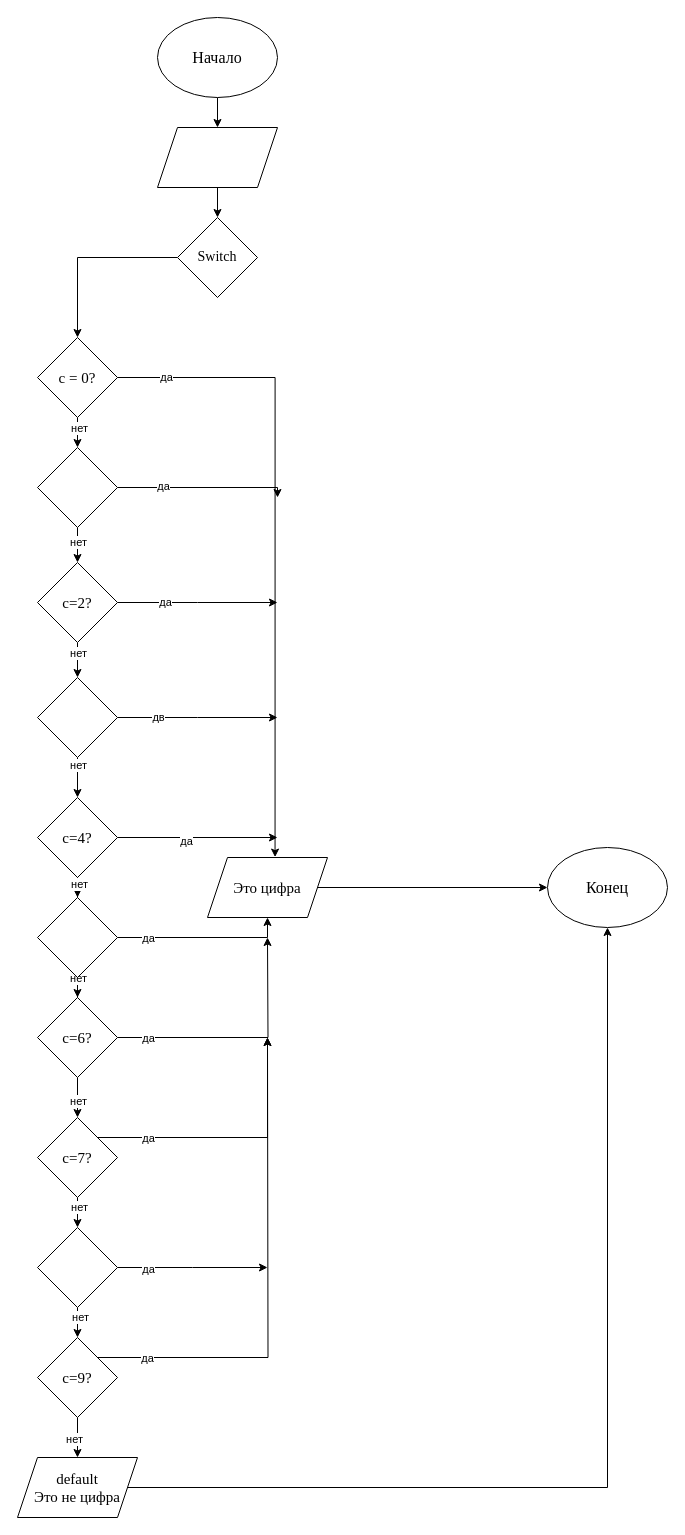
Image size: 685x1535. Some labels were removed from this diagram. The shapes that lost their labels are listed below. From the top down, each one's centre as x and y in pixels, then its label:
point (217, 157): Ввод символа c
point (77, 487): с=1?
point (77, 717): с=3?
point (77, 937): с=5?
point (77, 1267): с=8?
